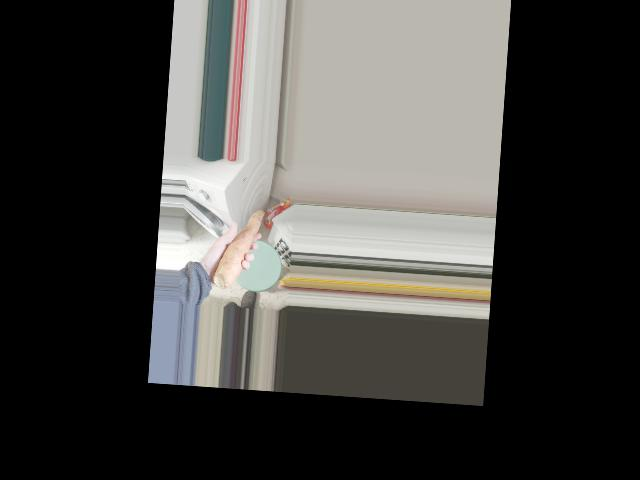sweet_potato: (210, 201, 268, 292)
